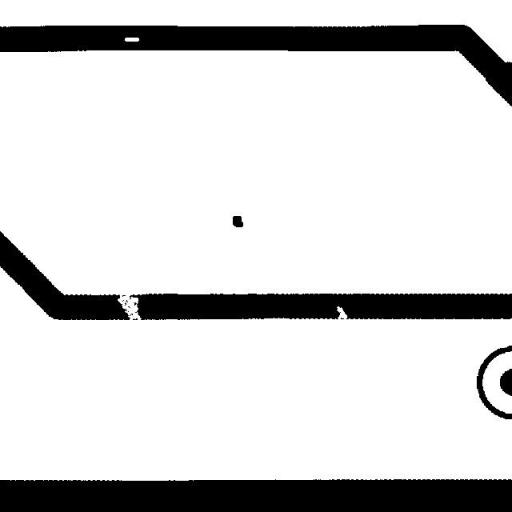copper: (225, 208, 250, 234)
mousebite: (329, 298, 354, 326)
open: (108, 277, 149, 335)
pin-hole: (117, 30, 146, 48)
